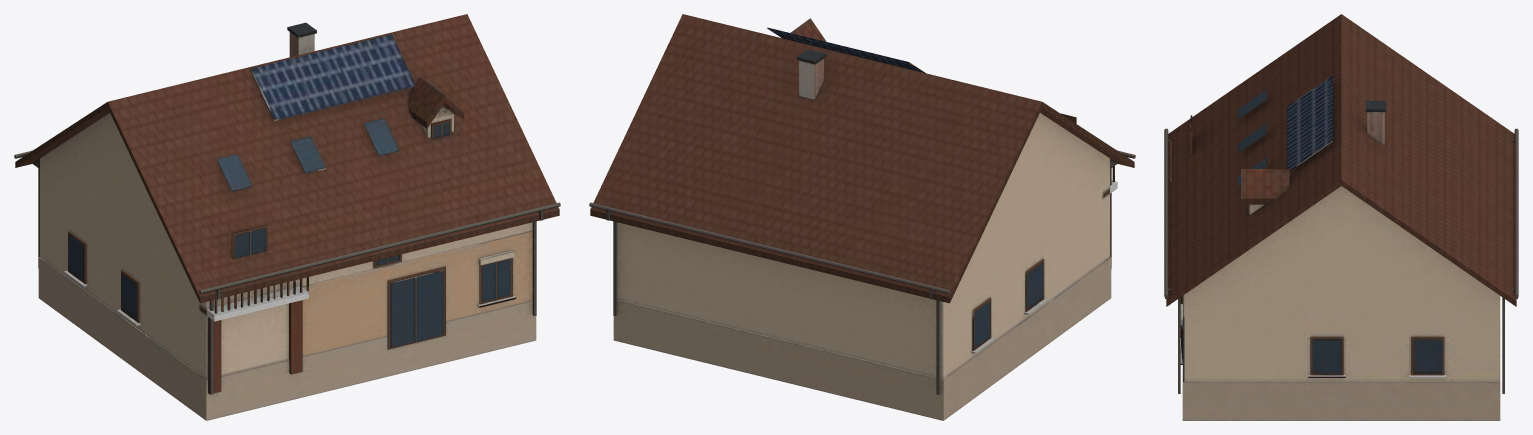
File: kwiaciarnia.glb
3 renders of one model, left to right at view 1: azimuth 30°, elevation 25°; view 2: azimuth 150°, elevation 25°; view 3: azimuth 270°, elevation 25°, orthographic. The views are drawn at different scales.
Parts seen in each view (by area): view 1: kwiaciarnia; view 2: kwiaciarnia; view 3: kwiaciarnia.
Part boxes in pixels (<box>): kwiaciarnia: <box>14,14,560,420</box>; kwiaciarnia: <box>589,14,1135,420</box>; kwiaciarnia: <box>1164,14,1518,420</box>.
Size of the model in its own units: 13.7 by 9.8 by 12.34.
1 material, 1 textured.
